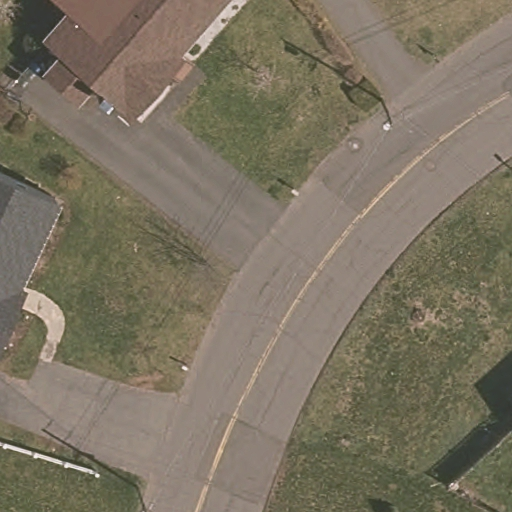DT: (369, 91, 402, 133)
